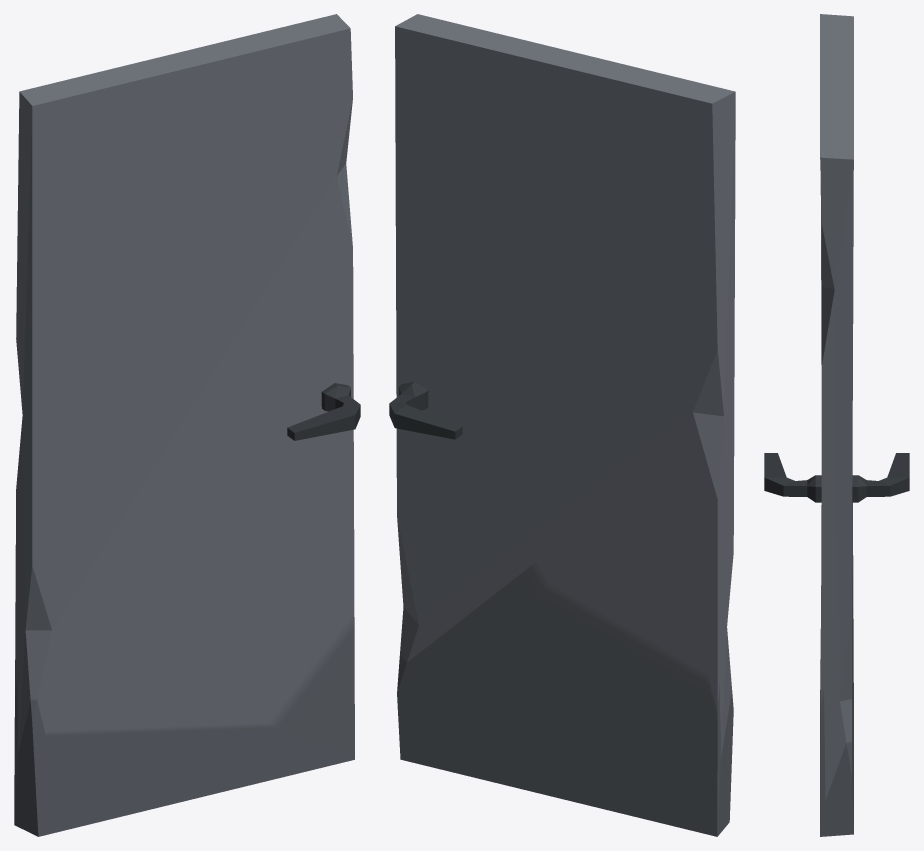
Rendered from SM_Bld_Barracks_Door_03.fbx.
3 renders of one model, left to right at view 1: azimuth 30°, elevation 25°; view 2: azimuth 150°, elevation 25°; view 3: azimuth 270°, elevation 25°, orthographic. The views are drawn at different scales.
Parts seen in each view (by area): view 1: SM_Bld_Barracks_Door_03; view 2: SM_Bld_Barracks_Door_03; view 3: SM_Bld_Barracks_Door_03.
Part boxes in pixels (left/top/right/bottom): SM_Bld_Barracks_Door_03: left=14, top=14, right=360, bottom=836; SM_Bld_Barracks_Door_03: left=389, top=14, right=735, bottom=836; SM_Bld_Barracks_Door_03: left=764, top=14, right=909, bottom=836.
Size of the model in its own units: 103 by 222 by 43.24.
